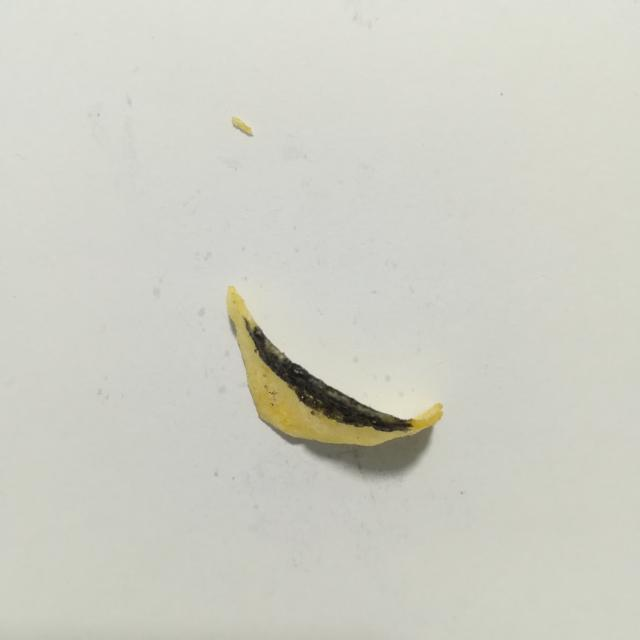chip: (226, 286, 443, 446)
damaged: (244, 317, 415, 432)
